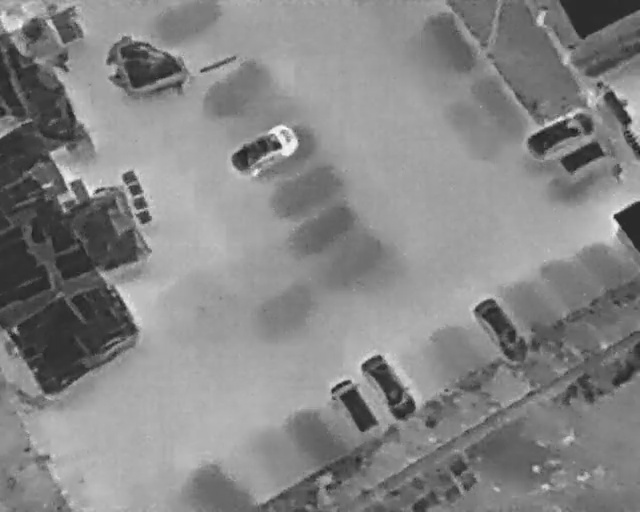Car: (356, 347, 422, 427), (226, 118, 303, 185), (522, 106, 600, 164), (469, 291, 527, 362), (326, 372, 382, 441)
